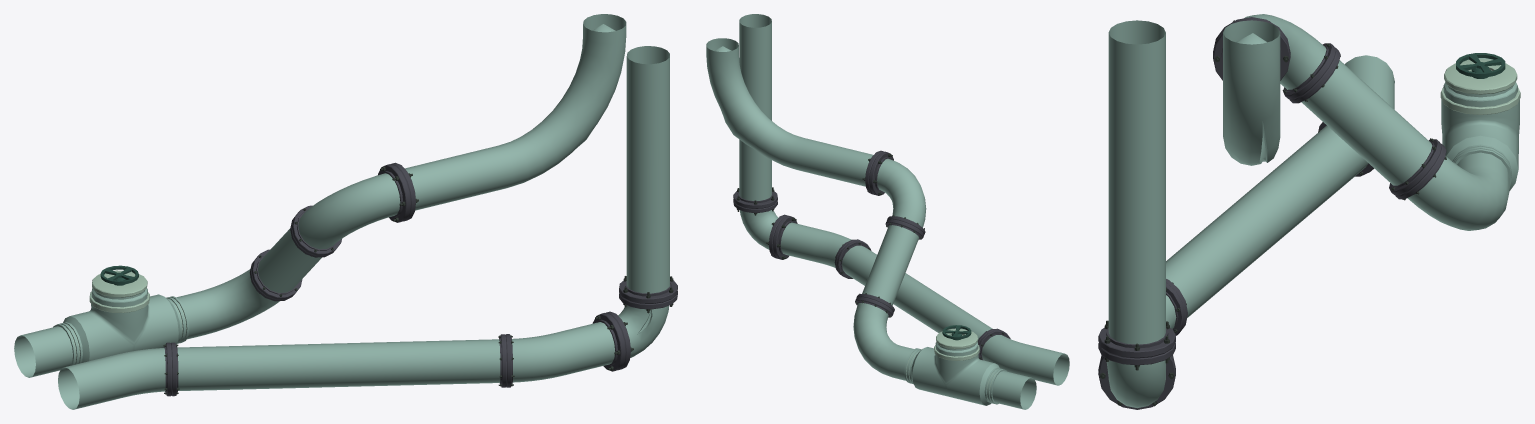
File: PipeComplexLarge_A2_21.fbx
The picture shows the model from 3 angles, left to right: view 1: azimuth 30°, elevation 25°; view 2: azimuth 150°, elevation 25°; view 3: azimuth 270°, elevation 25°; orthographic projection. The views are drawn at different scales.
Parts seen in each view (by area): view 1: PipeComplexLarge_A2_21.001; view 2: PipeComplexLarge_A2_21.001; view 3: PipeComplexLarge_A2_21.001.
Part boxes in pixels (x1,y1,x2,y2): PipeComplexLarge_A2_21.001: [14, 14, 677, 409]; PipeComplexLarge_A2_21.001: [706, 14, 1069, 409]; PipeComplexLarge_A2_21.001: [1098, 14, 1520, 409].
Bounding box in the file's own units: 2.74 × 1.54 × 1.47.
